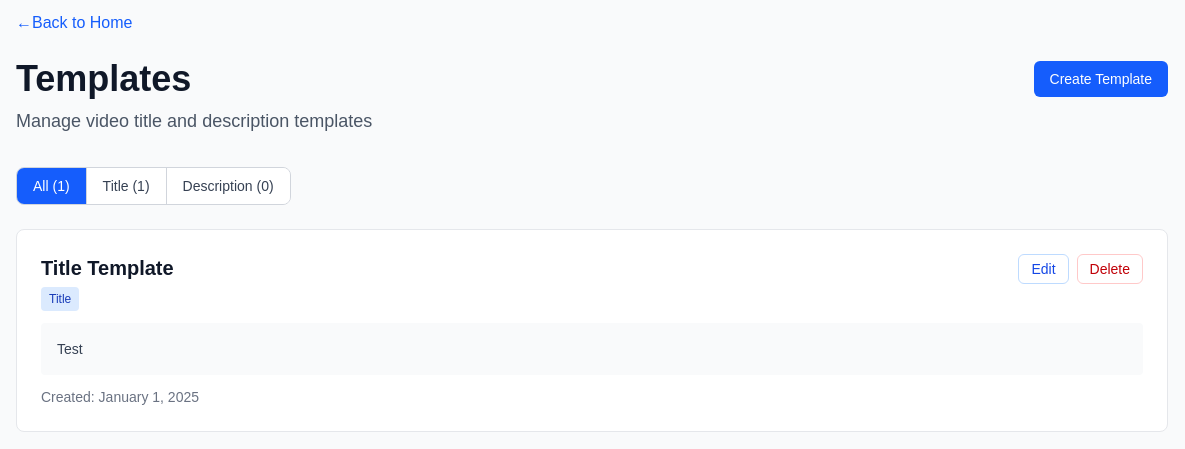
Test case: TemplatesPage › Empty States › should show filtered empty state when no templates match filter
Expected: the heading "Title Template" is shown, [41,257,174,279]
Click the button "Description (0)".
click(228, 186)  # box [166,168,290,204]
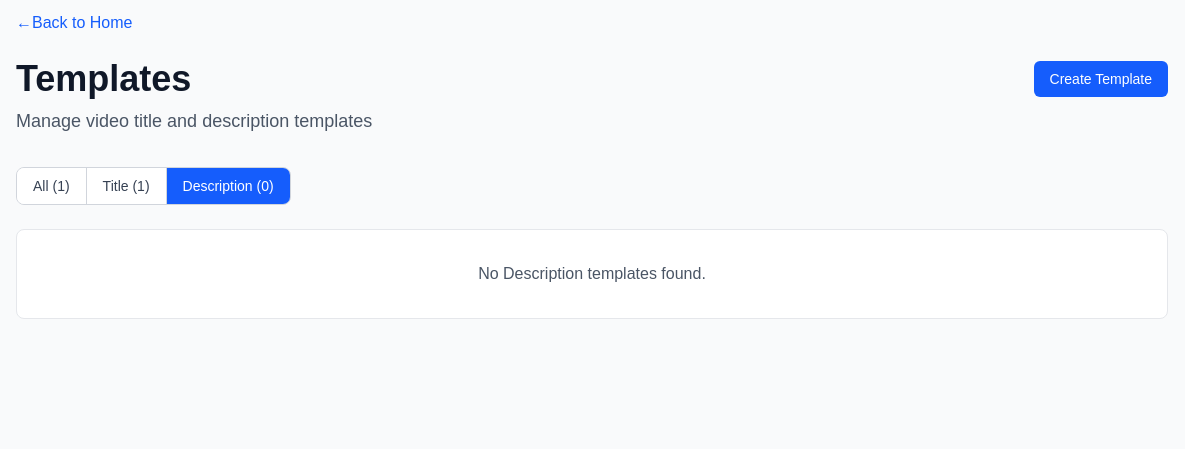
Now the text "No Description templates found." is shown, box [478,265,706,282]
